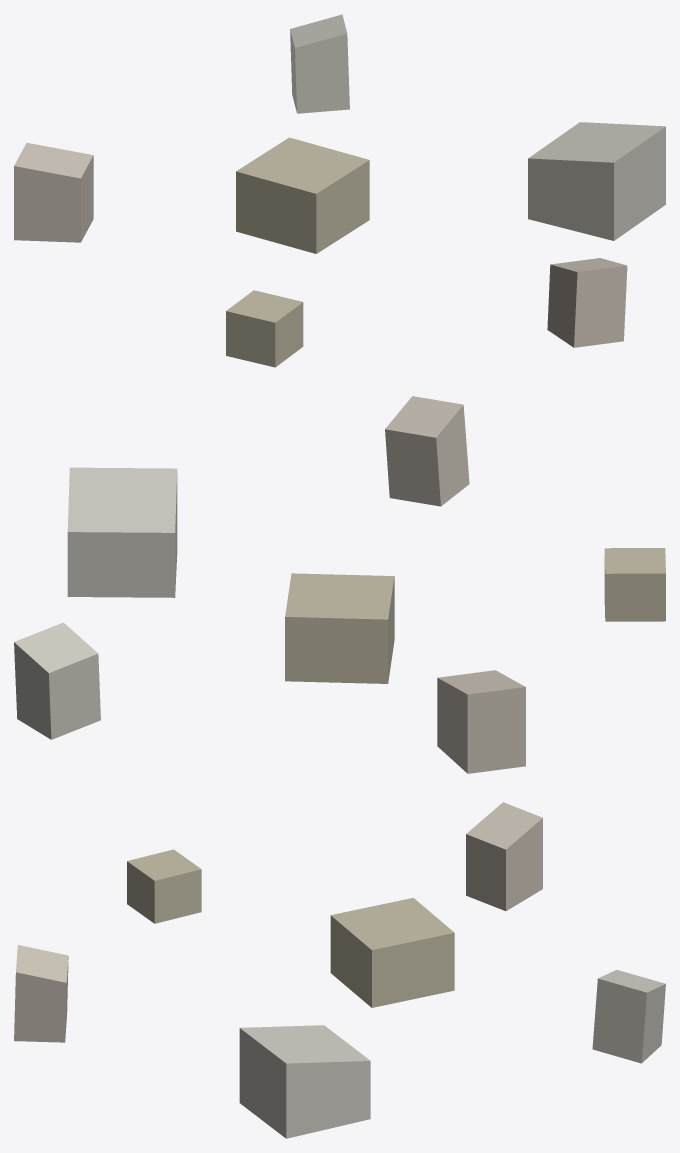
File: Rocks_Square_s_05.fbx
3 views of the same model, one above another, from view 1: azimuth 30°, elevation 25°; view 2: azimuth 150°, elevation 25°; view 3: azimuth 270°, elevation 25° (orthographic). The views are drawn at different scales.
Parts seen in each view (by area): view 1: Rocks_Square_s_05; view 2: Rocks_Square_s_05; view 3: Rocks_Square_s_05.
Boxes of the visible parts, x1,y1,x2,y2 form: Rocks_Square_s_05: (14, 14, 665, 367); Rocks_Square_s_05: (14, 396, 665, 773); Rocks_Square_s_05: (14, 802, 665, 1138).
Size of the model in its own units: 71.08 by 11.42 by 77.54.
